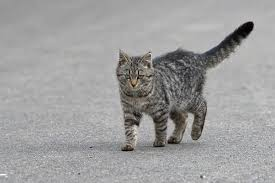cat: (116, 20, 256, 152)
